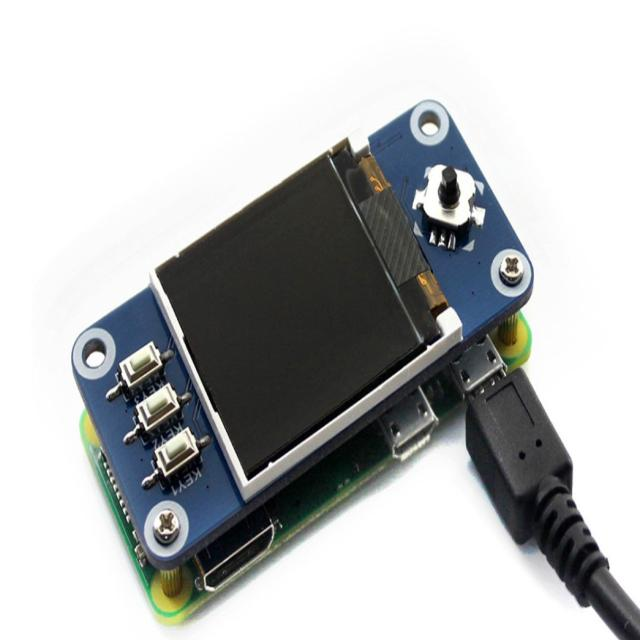Display: (62, 87, 558, 634)
